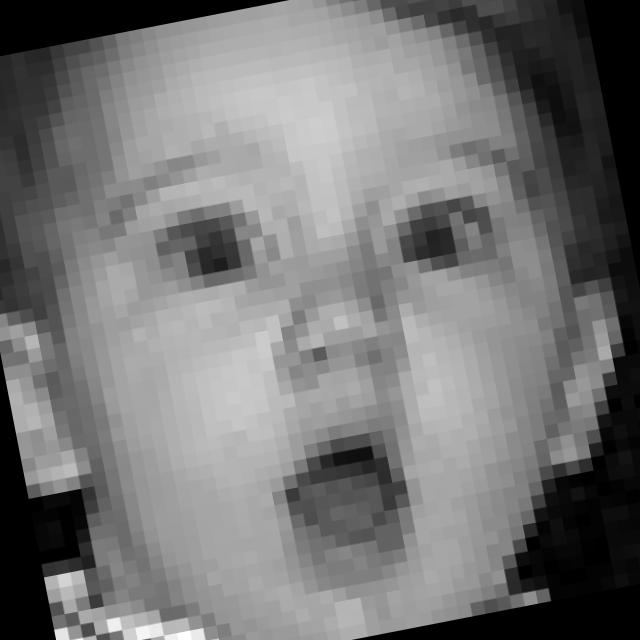surprise: (75, 82, 616, 620)
